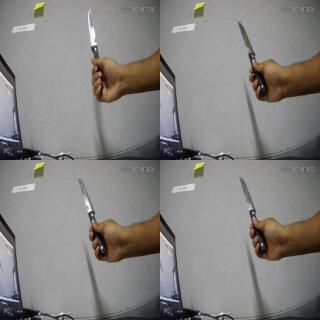knife: (235, 170, 268, 254), (74, 170, 106, 256), (238, 21, 270, 96), (84, 3, 106, 99)
